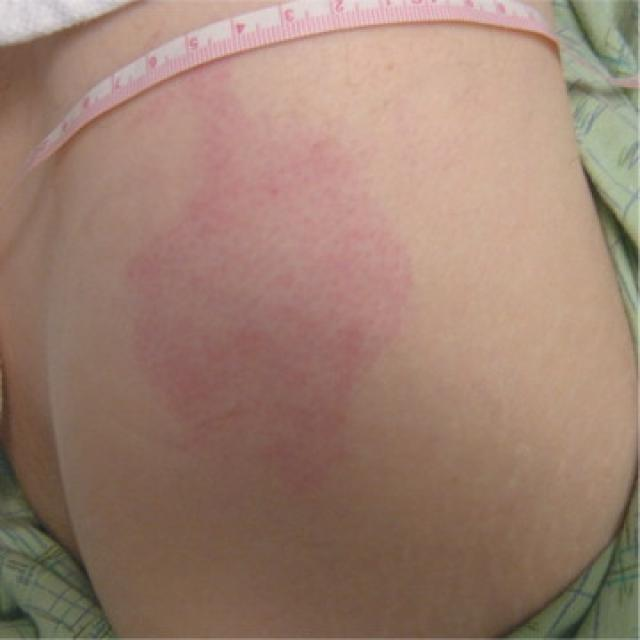stage-1: (127, 67, 402, 491)
